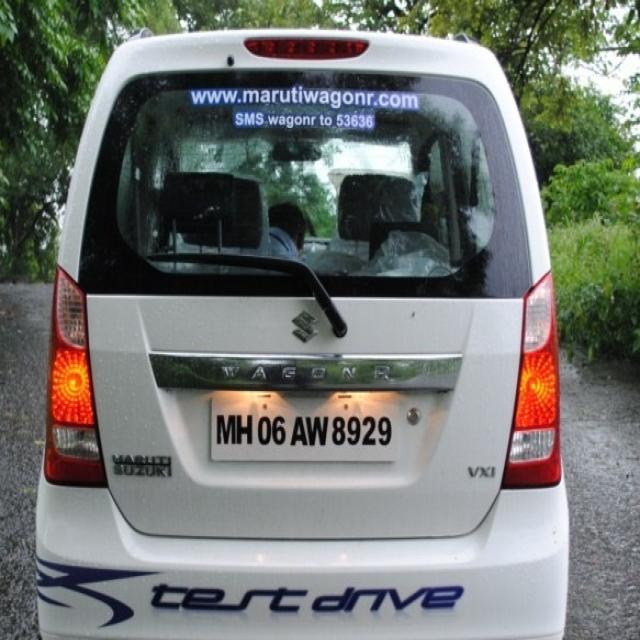number_plate: (210, 396, 398, 452)
